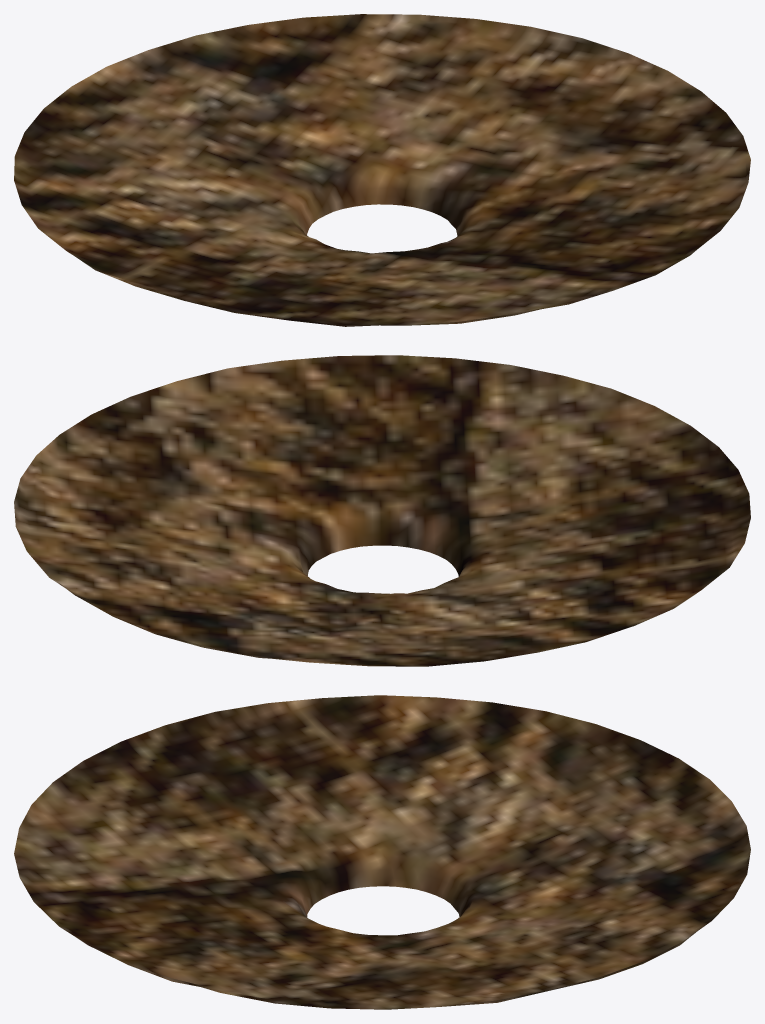
File: sludge.fbx
3 views of the same model, one above another, from view 1: azimuth 30°, elevation 25°; view 2: azimuth 150°, elevation 25°; view 3: azimuth 270°, elevation 25° (orthographic).
Parts seen in each view (by area): view 1: Sludge; view 2: Sludge; view 3: Sludge.
Part boxes in pixels (x1=…): Sludge: x1=14, y1=14, x2=750, y2=326; Sludge: x1=14, y1=355, x2=750, y2=666; Sludge: x1=14, y1=695, x2=750, y2=1009.
Bounding box in the file's own units: 1378 × 140 × 1369.
